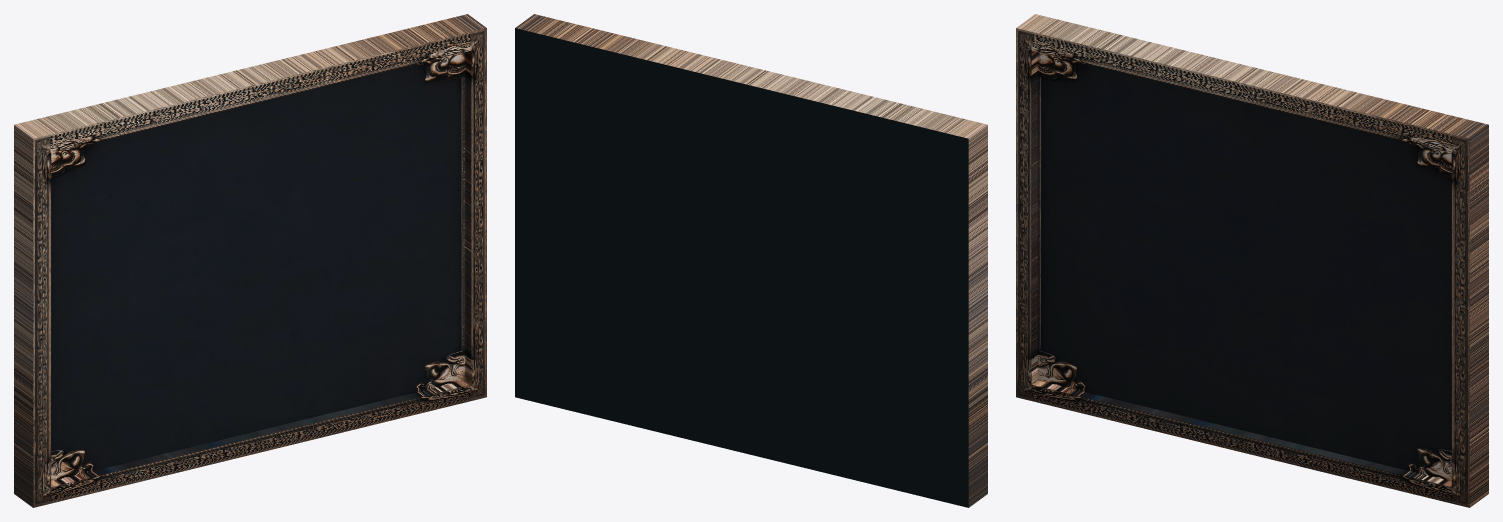
Rendered from panel_result.glb.
3 views of the same model, side by side, from view 1: azimuth 30°, elevation 25°; view 2: azimuth 150°, elevation 25°; view 3: azimuth 330°, elevation 25° (orthographic).
Visible parts, largest first — view 1: panel_result; view 2: panel_result; view 3: panel_result.
Boxes of the visible parts, x1,y1,x2,y2 form: panel_result: (14, 14, 486, 507); panel_result: (515, 14, 987, 507); panel_result: (1016, 14, 1488, 507).
Size of the model in its own units: 0.54 by 0.42 by 0.042.
Materials: 1 (1 with a texture image).
